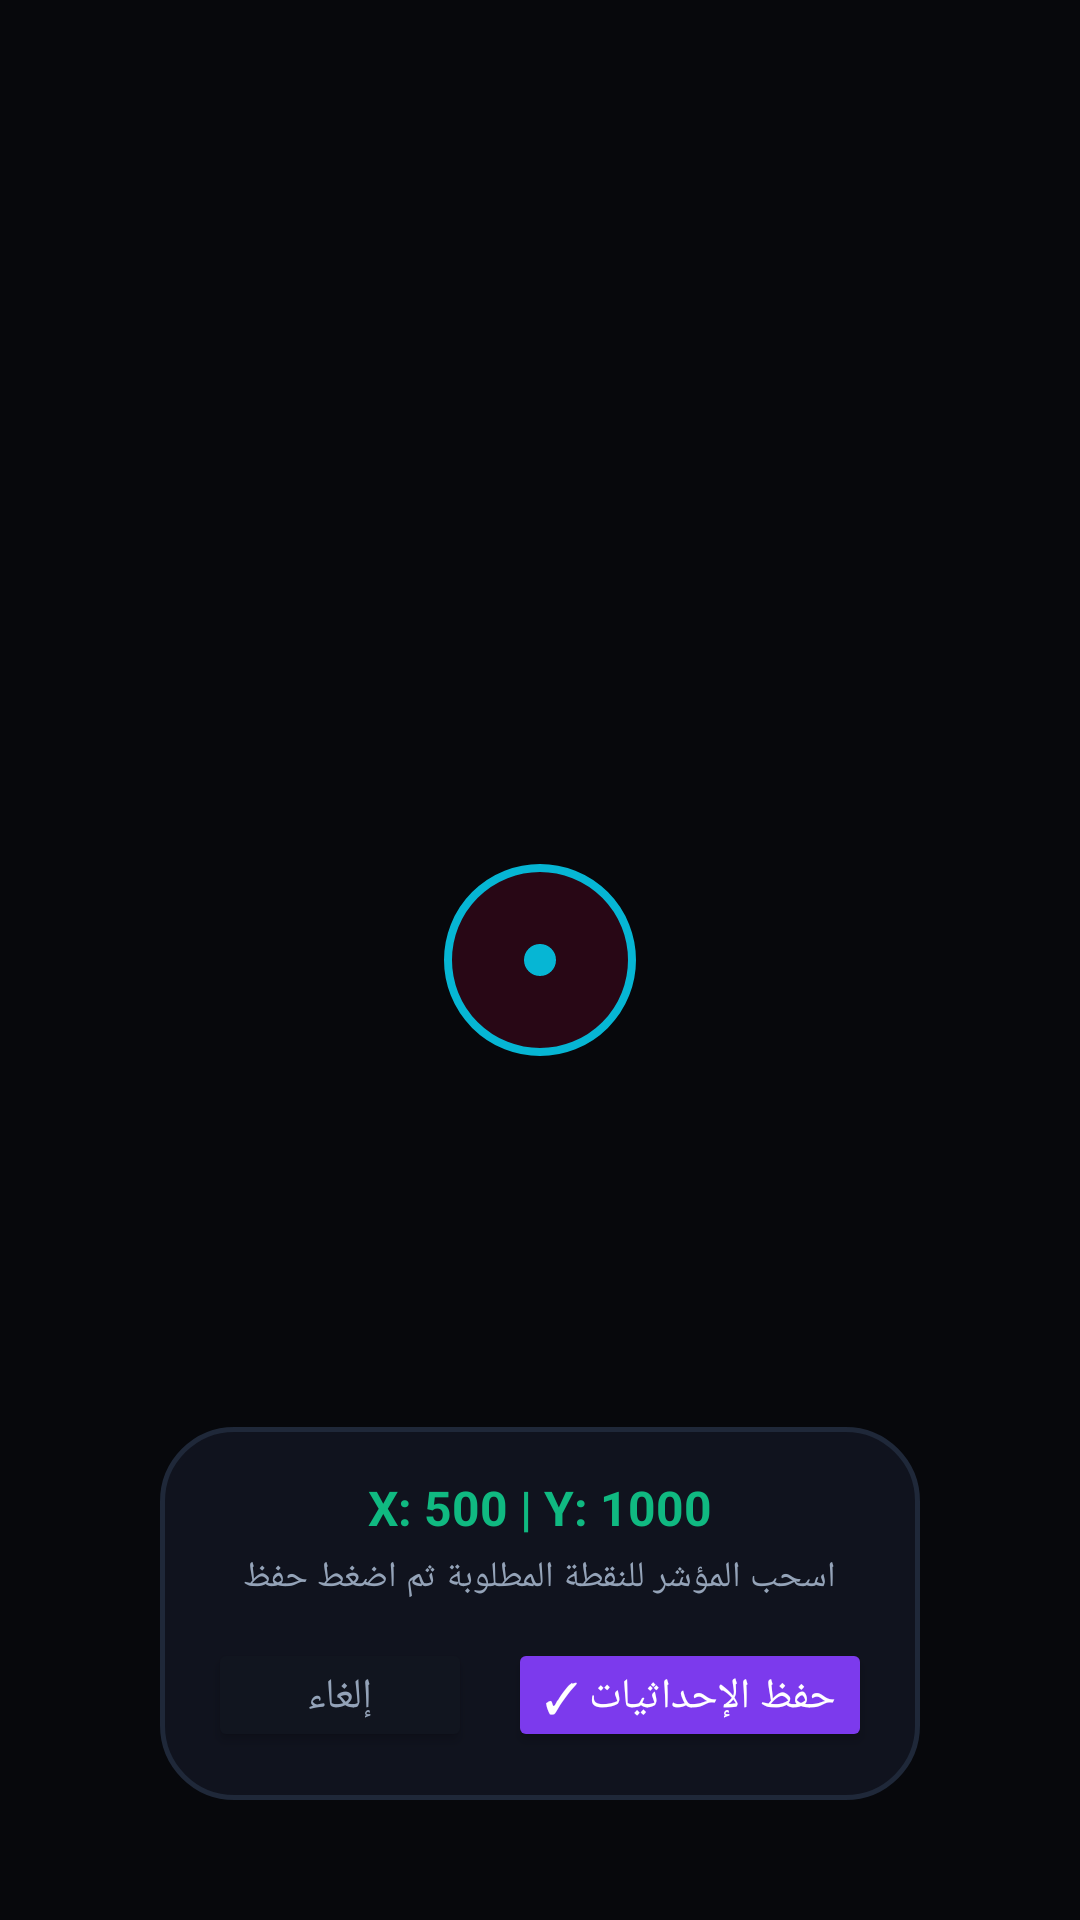

Icon bounding boxes for this 1080 × 1920 phone screenshot, format [x1=x1, y1=y1, x2=x2, y2=y2]:
Crosshair: [x1=444, y1=864, x2=636, y2=1056]
